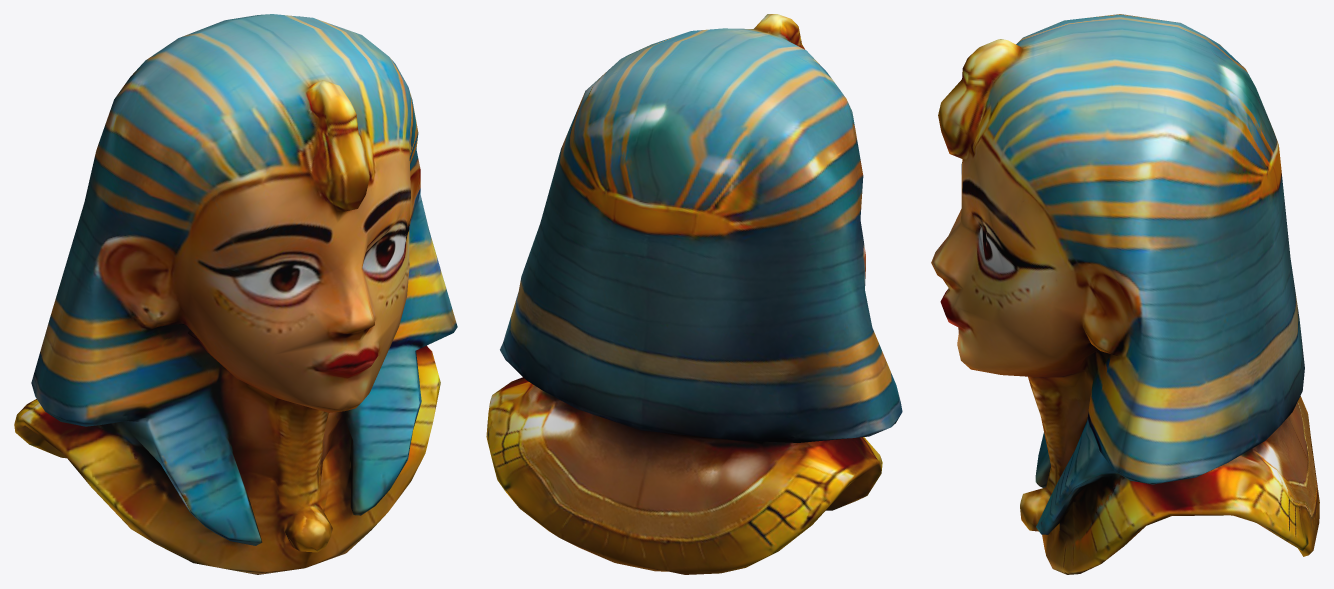
File: the_image_features_a_3d_render_of_a_gold_and_blu.glb
The picture shows the model from 3 angles, left to right: view 1: azimuth 30°, elevation 25°; view 2: azimuth 150°, elevation 25°; view 3: azimuth 270°, elevation 25°; orthographic projection. The views are drawn at different scales.
Parts seen in each view (by area): view 1: ProcessedMeshNode_LOD1; view 2: ProcessedMeshNode_LOD1; view 3: ProcessedMeshNode_LOD1.
Part boxes in pixels (x1=…): ProcessedMeshNode_LOD1: x1=14, y1=14, x2=457, y2=574; ProcessedMeshNode_LOD1: x1=486, y1=14, x2=902, y2=574; ProcessedMeshNode_LOD1: x1=931, y1=14, x2=1319, y2=574.
Size of the model in its own units: 0.6742 by 0.81 by 0.5536.
1 material, 1 textured.
